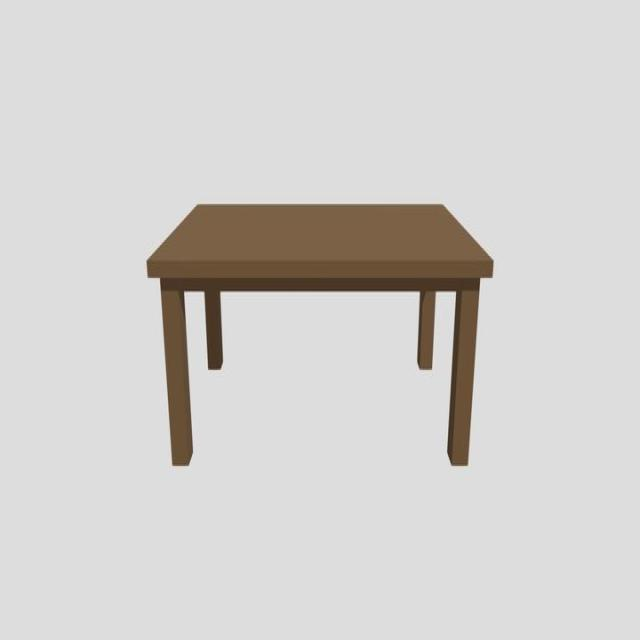table: (146, 198, 494, 469)
